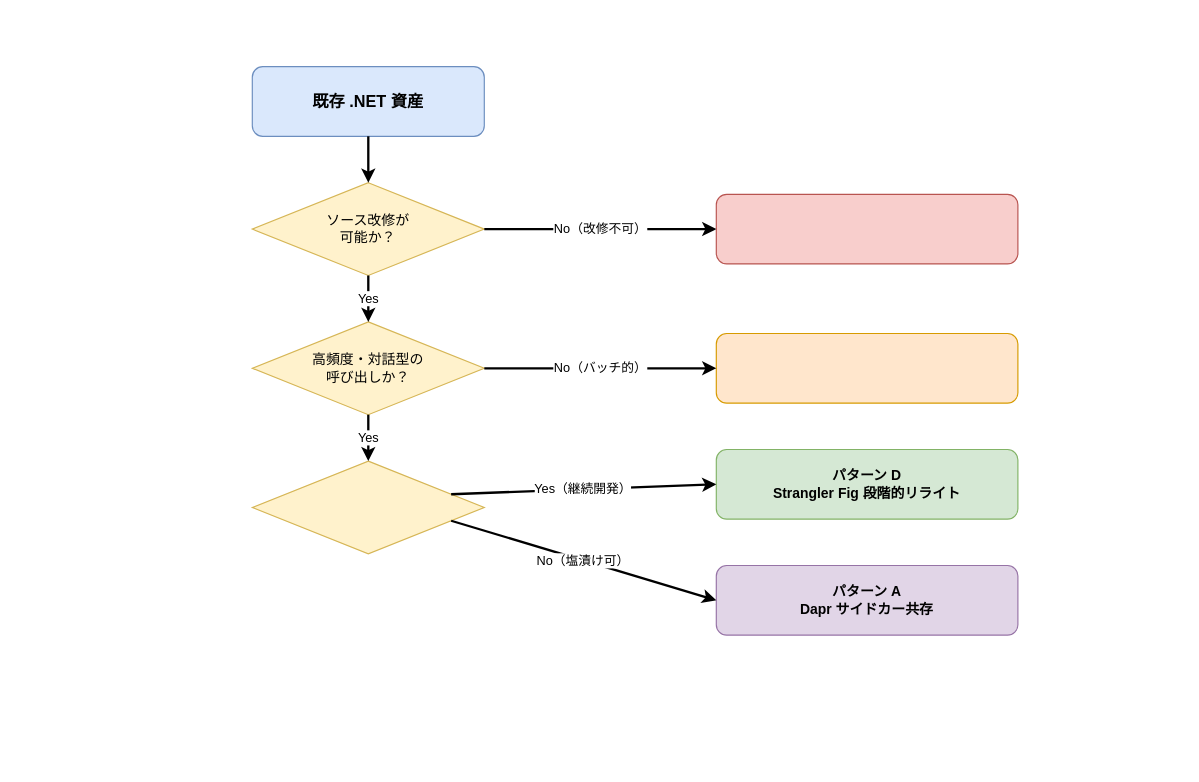
Some shapes in this 1199 by 782 pixel diagram are drawn without their labels. Here are the shapes that lost their labels. From the top down, the box of each, then its label:
(715, 193, 1018, 264): パターン C API Gateway ブラックボックス化
(715, 332, 1018, 403): パターン B バッチ / ジョブ + Gateway
(251, 460, 484, 554): 新規機能の 追加が続くか？
